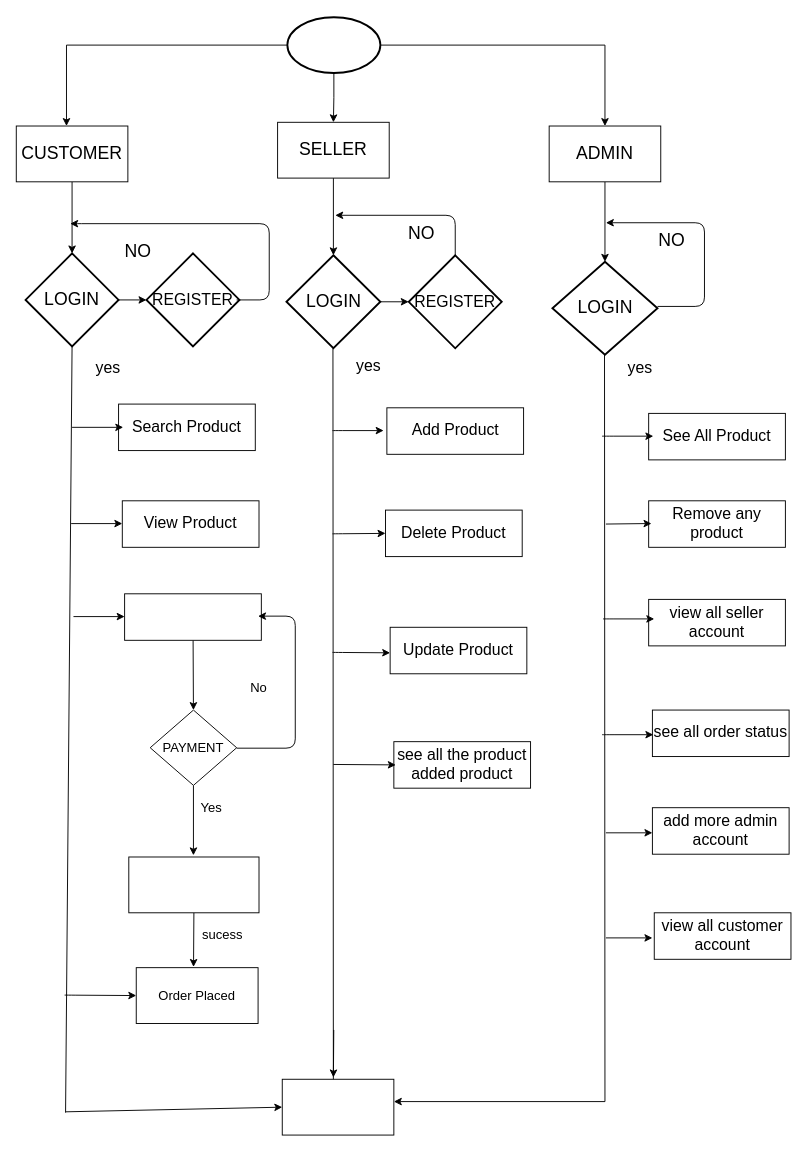
This 807x1151 diagram has some shape labels left out. Each missing label, with the centre of its shape:
Buy Product and add to cart: [192,616]
LOGOUT: [337,1106]
Razorpay Payment gateway: [193,884]
start: [333,44]
